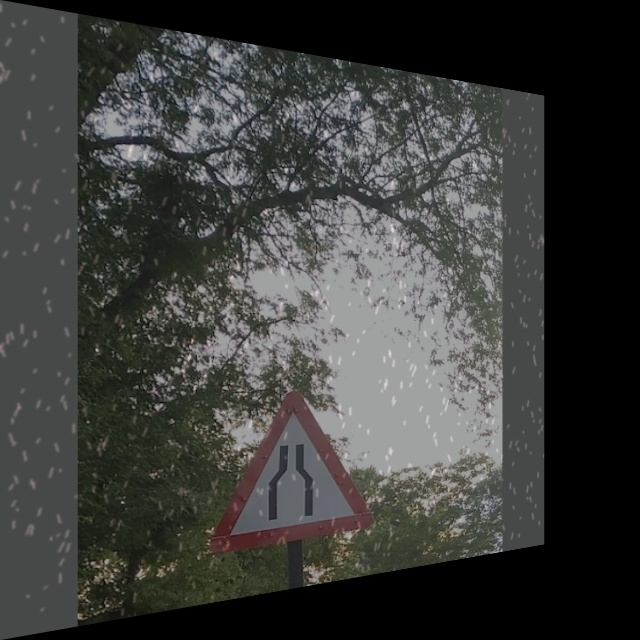Narrow_Road_Ahead: (212, 385, 374, 552)
